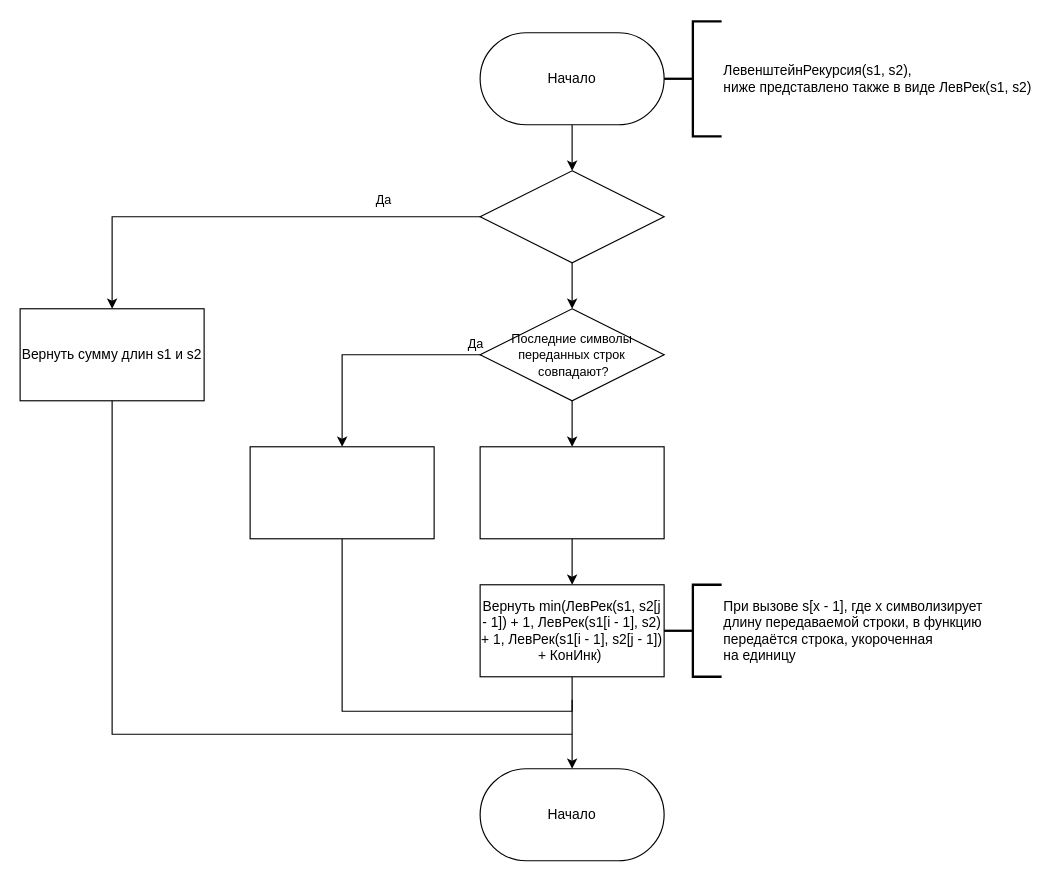
This 1052x881 diagram has some shape labels left out. Each missing label, with the box of its shape:
Длина s1 или s2 равны нулю?: (479, 170, 664, 263)
КонИнк = 0: (479, 446, 664, 539)
КонИнк = 1: (249, 446, 434, 539)
